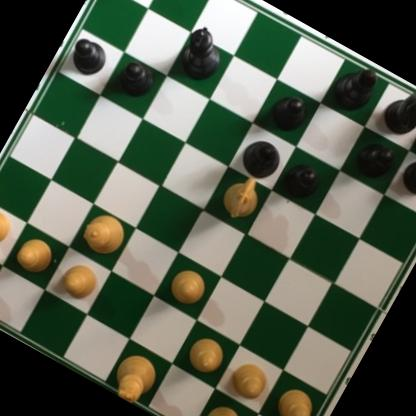black-bishop: (324, 51, 386, 119), (234, 132, 288, 185)
black-king: (168, 18, 235, 89)
black-knight: (374, 79, 416, 147)
black-pawn: (349, 134, 400, 187), (275, 156, 326, 207), (263, 87, 312, 138), (110, 56, 159, 105), (65, 34, 112, 82), (394, 151, 416, 205)
black-rook: (411, 99, 416, 171)
white-bishop: (104, 0, 167, 2)
white-king: (104, 344, 166, 409)
white-knight: (212, 167, 267, 228), (194, 398, 251, 416)
white-pawn: (223, 353, 276, 406), (162, 262, 214, 315), (9, 230, 61, 281), (180, 328, 232, 379), (55, 256, 106, 306), (268, 380, 320, 416), (0, 199, 19, 250)
white-queen: (76, 205, 134, 263)
white-rook: (236, 414, 306, 416)
